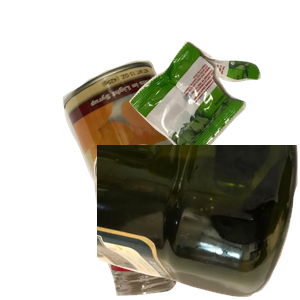glass: (91, 142, 260, 300)
metal: (60, 58, 300, 238)
plastic: (97, 145, 300, 300)
trash: (127, 39, 300, 193)
